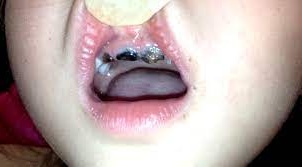Caries: (101, 42, 167, 65)
